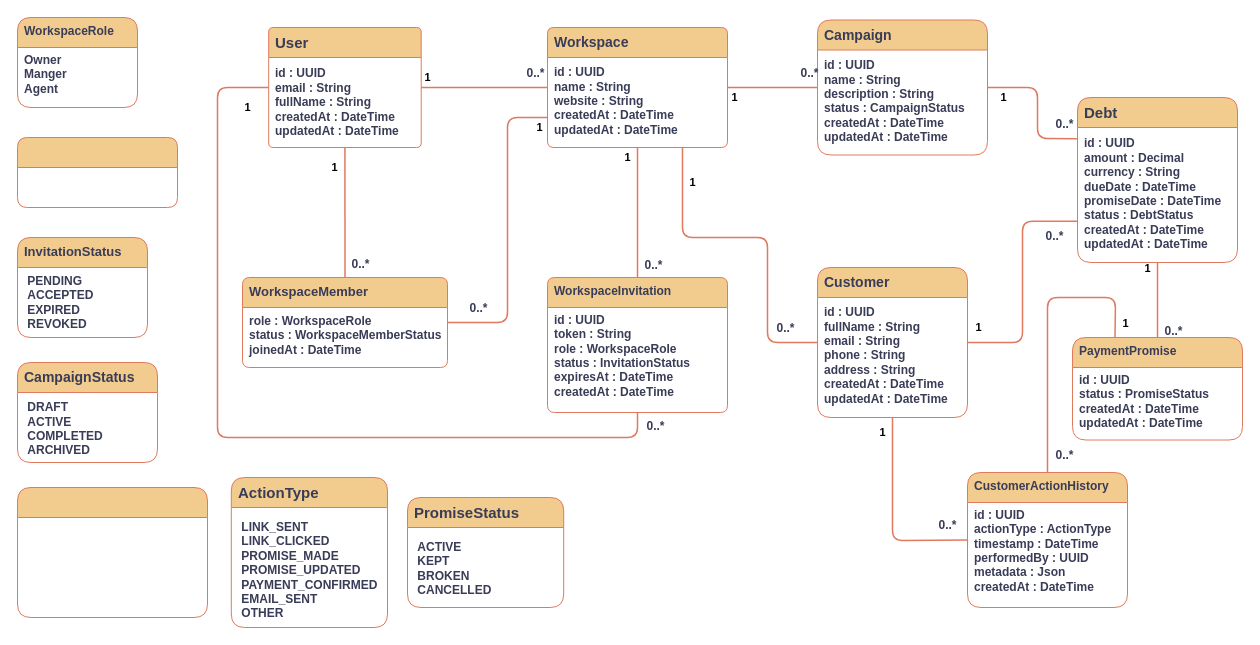
Some shapes in this 1260 by 645 pixel diagram are drawn without their labels. The shapes that lost their labels are listed below. From the top down, each one's centre as x and y in pixels, then its label:
[97,172]: WorkspaceMemberStatus ACTIVE INACTIVE
[112,552]: DebtStatus IMPORTED UNPAID NOTIFIED PROMISE_TO_PAY PAID OVERDUE_AFTER_PROMISE
